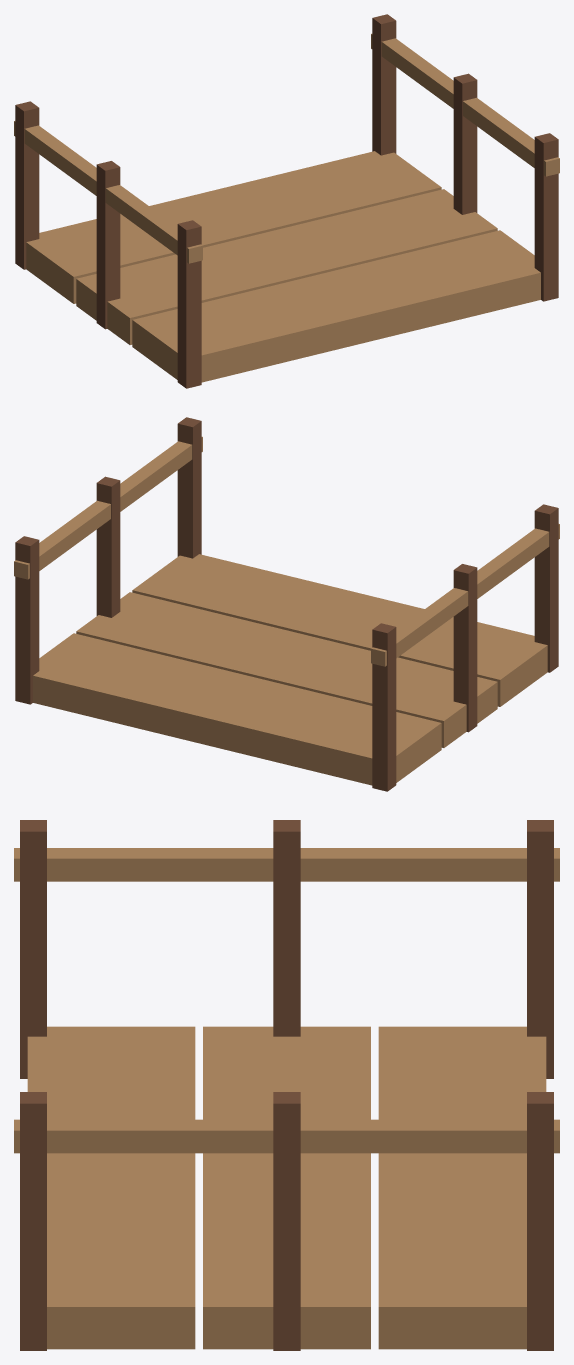
The model's file is bridge.glb.
3 views of the same model, one above another, from view 1: azimuth 30°, elevation 25°; view 2: azimuth 150°, elevation 25°; view 3: azimuth 270°, elevation 25° (orthographic). The views are drawn at different scales.
Parts seen in each view (by area): view 1: bridge; view 2: bridge; view 3: bridge.
Part boxes in pixels (x1,y1,x2,y2): bridge: (14,14,559,388); bridge: (14,417,559,791); bridge: (14,820,559,1350).
Bounding box in the file's own units: 3.44 × 1.4 × 2.8.
